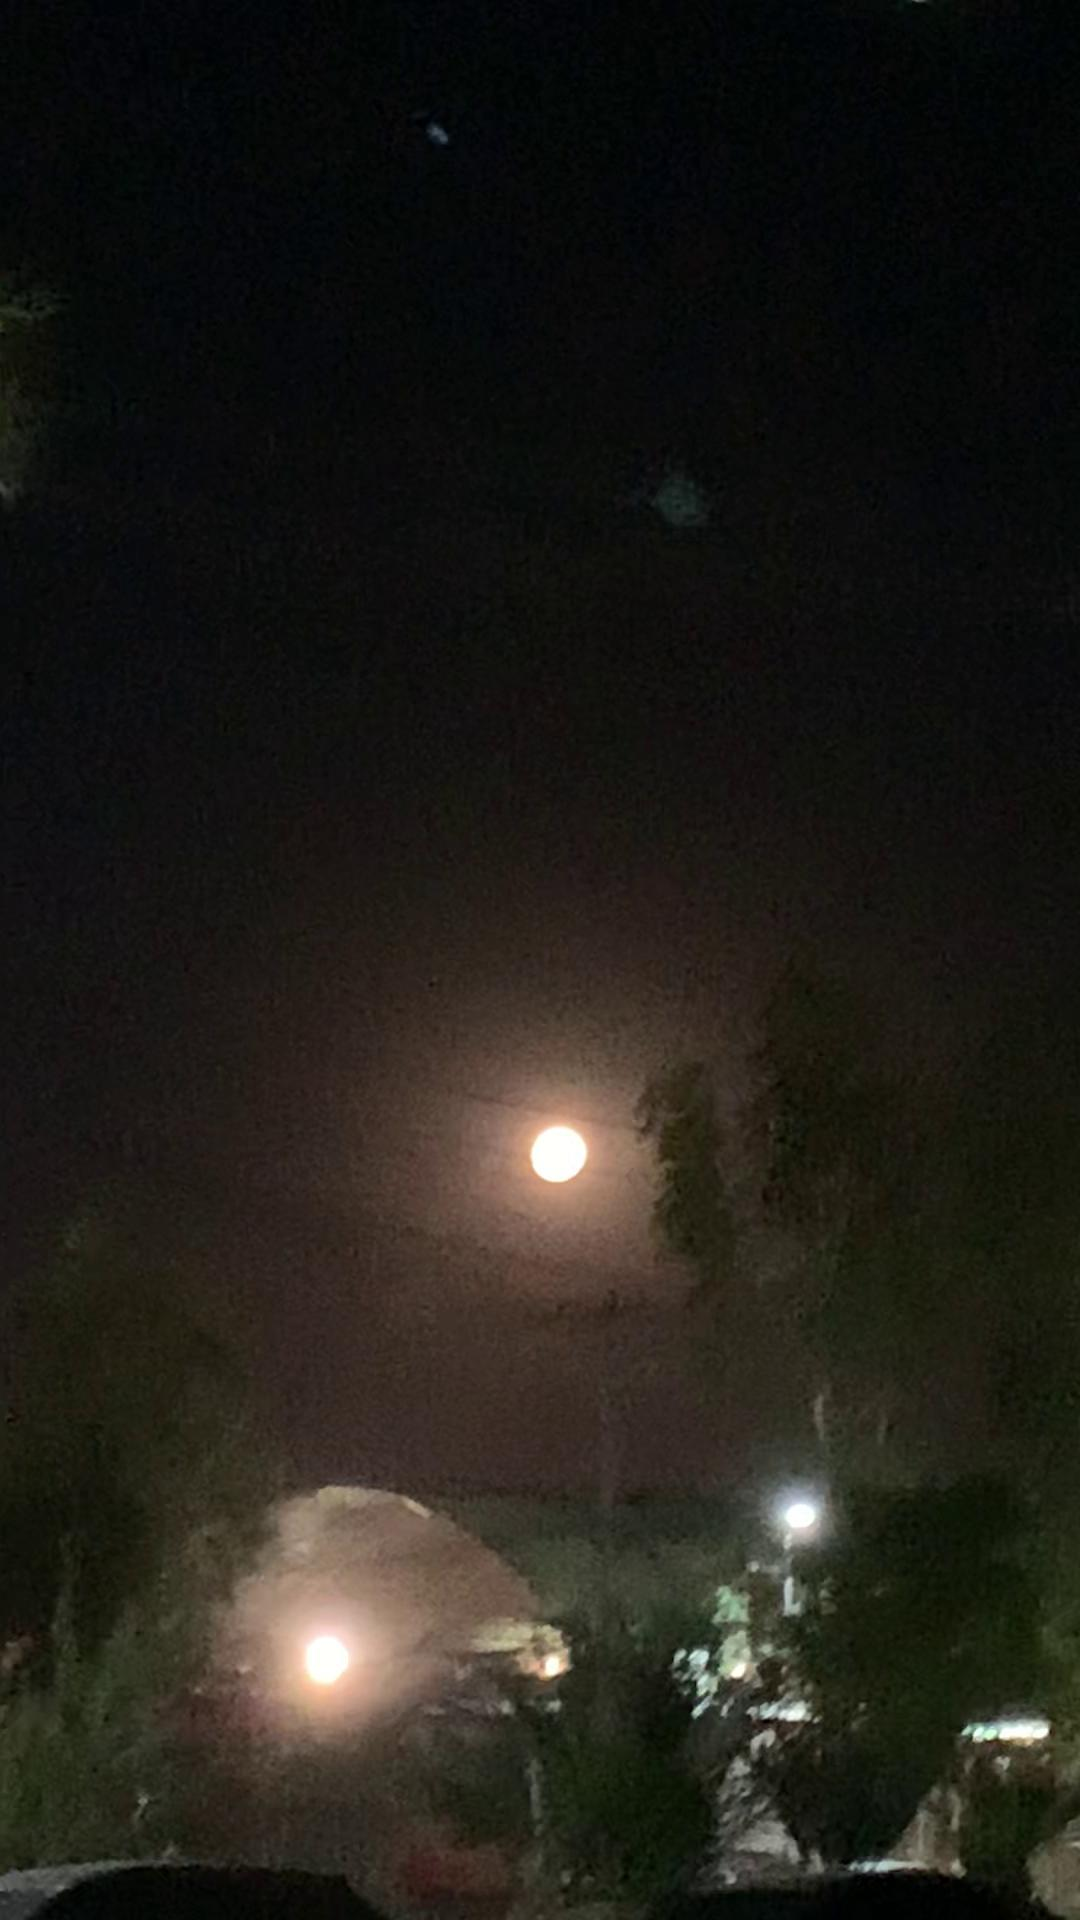moon: (514, 1129, 585, 1201)
